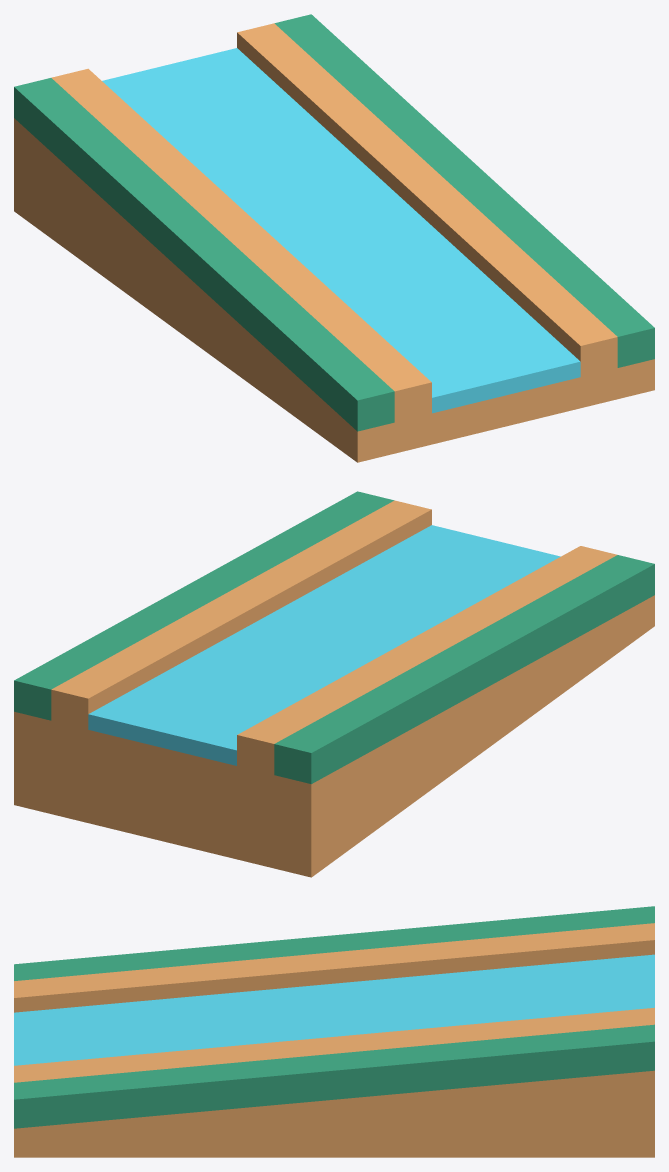
The model's file is tile_riverSlopeLarge.dae.
The picture shows the model from 3 angles, top to bottom: view 1: azimuth 30°, elevation 25°; view 2: azimuth 150°, elevation 25°; view 3: azimuth 270°, elevation 25°; orthographic projection. The views are drawn at different scales.
Visible parts, largest first — view 1: tile_riverSlopeLarge; view 2: tile_riverSlopeLarge; view 3: tile_riverSlopeLarge.
Part boxes in pixels (<box>): tile_riverSlopeLarge: <box>14,14,654,462</box>; tile_riverSlopeLarge: <box>14,491,654,877</box>; tile_riverSlopeLarge: <box>14,906,654,1157</box>.
Size of the model in its own units: 1 by 0.4 by 2.
